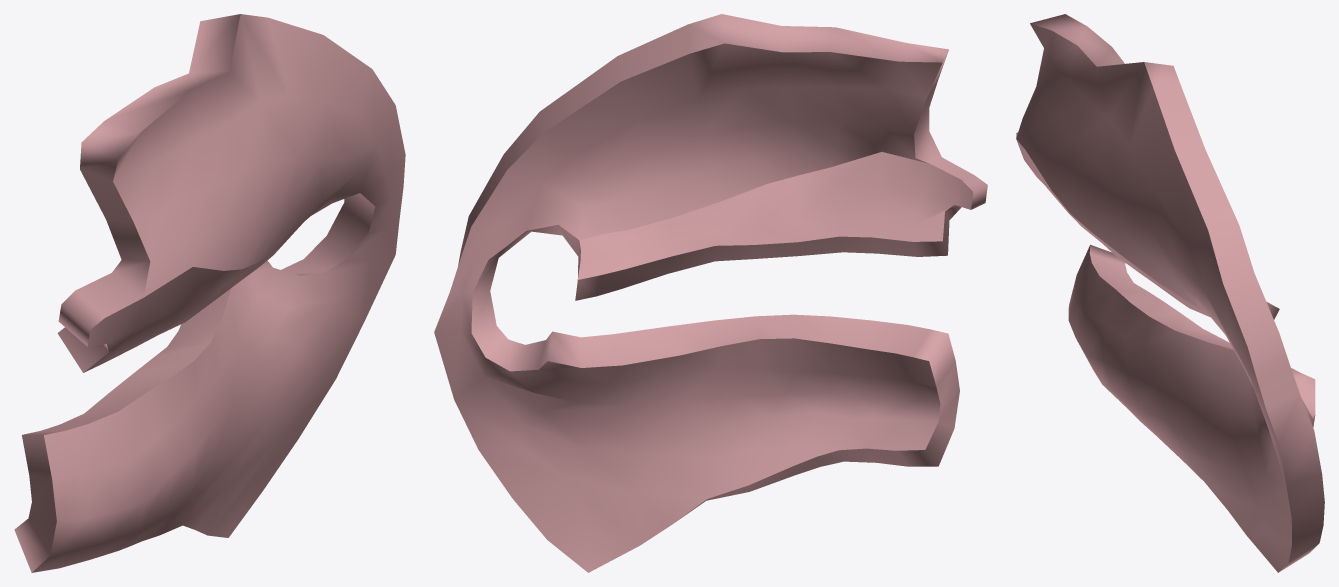
The picture shows the model from 3 angles, left to right: view 1: azimuth 30°, elevation 25°; view 2: azimuth 150°, elevation 25°; view 3: azimuth 270°, elevation 25°; orthographic projection. The views are drawn at different scales.
Parts seen in each view (by area): view 1: ZA_c3a1d8bc24bc9b65; view 2: ZA_c3a1d8bc24bc9b65; view 3: ZA_c3a1d8bc24bc9b65.
Part boxes in pixels (box(x1,y1,x2,y2)): ZA_c3a1d8bc24bc9b65: box(14, 14, 405, 572); ZA_c3a1d8bc24bc9b65: box(434, 14, 987, 572); ZA_c3a1d8bc24bc9b65: box(1016, 14, 1324, 572).
Size of the model in its own units: 0.0345 by 0.0417 by 0.0242.
